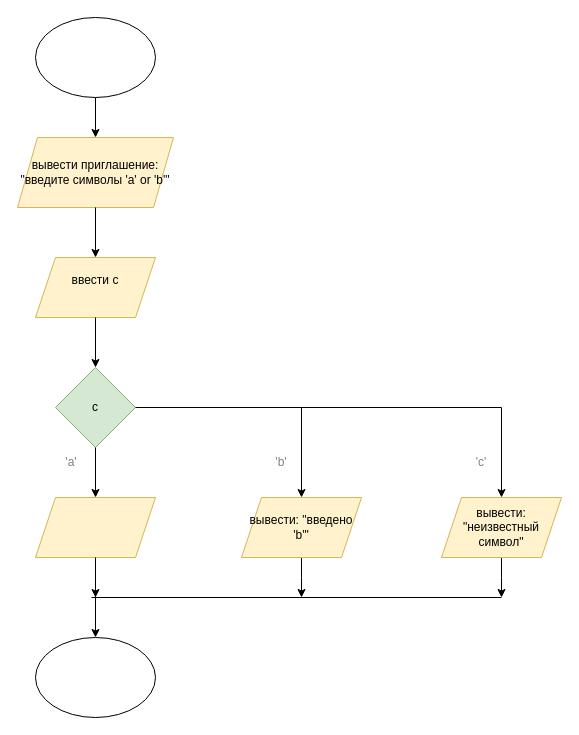
The diagram is 579 pixels wide and 735 high, and some of its shapes have lost their labels. Here are the shapes that lost their labels. From the top down, the box of each, then its label:
(34, 16, 156, 98): начало
(34, 496, 156, 558): вывести: "введено 'a'"
(34, 636, 156, 718): конец
